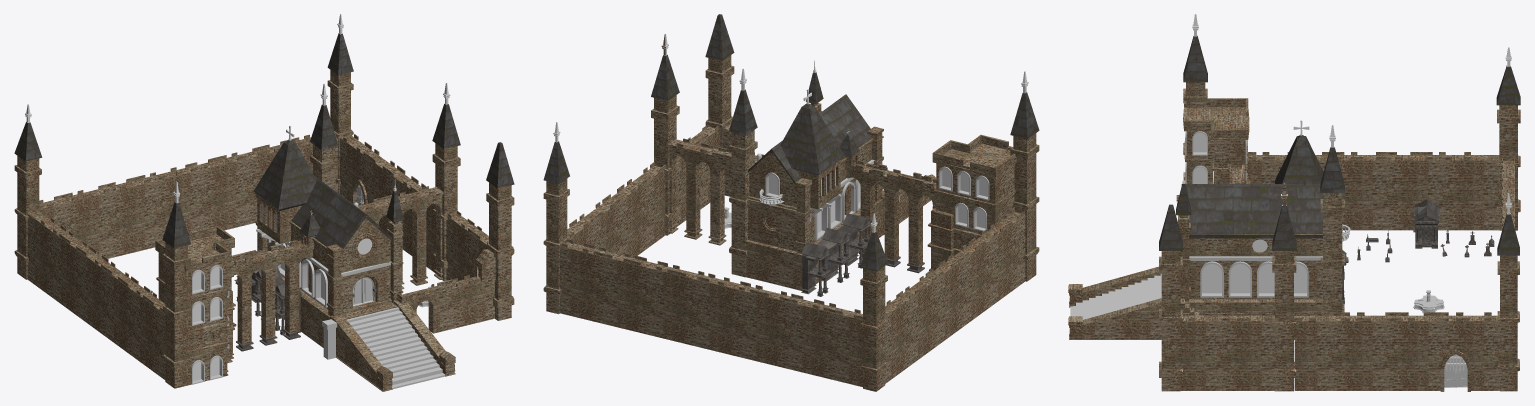
File: rpg with texture.fbx
3 views of the same model, side by side, from view 1: azimuth 30°, elevation 25°; view 2: azimuth 150°, elevation 25°; view 3: azimuth 270°, elevation 25° (orthographic). The views are drawn at different scales.
Parts seen in each view (by area): view 1: Cube.003; view 2: Cube.003; view 3: Cube.003.
Part boxes in pixels (<box>): Cube.003: <box>14,14,514,391</box>; Cube.003: <box>543,14,1039,391</box>; Cube.003: <box>1068,14,1520,391</box>.
Size of the model in its own units: 2408 by 1432 by 2719.
